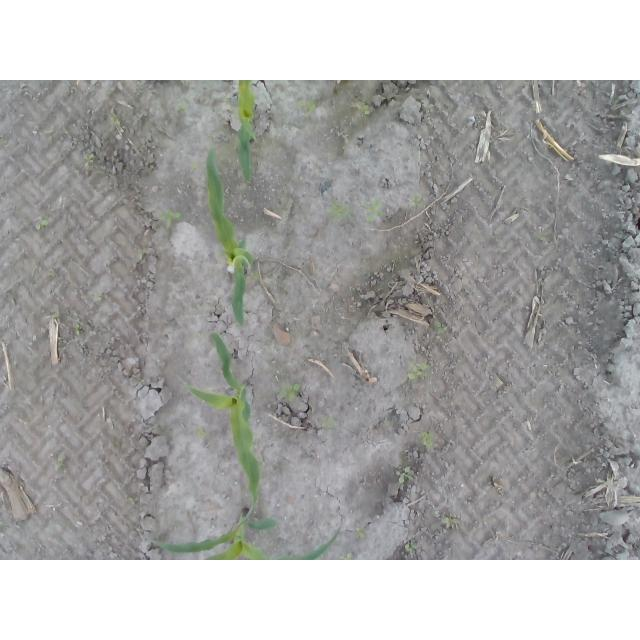Maize: (175, 332, 261, 537), (149, 516, 343, 561), (206, 146, 254, 326), (237, 82, 262, 183)
Weeds: (326, 201, 351, 224), (159, 209, 181, 231), (279, 382, 301, 402), (365, 201, 384, 224), (407, 363, 429, 382), (398, 468, 415, 488), (354, 101, 371, 118), (297, 100, 315, 114), (442, 516, 462, 528), (419, 432, 433, 449), (112, 109, 124, 128), (413, 196, 428, 211), (534, 232, 551, 245), (54, 455, 66, 473), (82, 156, 96, 169), (322, 417, 335, 429), (435, 319, 446, 333), (34, 219, 46, 231), (74, 322, 83, 337), (405, 542, 418, 551), (138, 249, 147, 262), (90, 292, 102, 301), (198, 429, 207, 440), (177, 105, 188, 114), (124, 500, 136, 508), (355, 529, 364, 539), (52, 312, 63, 320), (192, 162, 200, 170)
